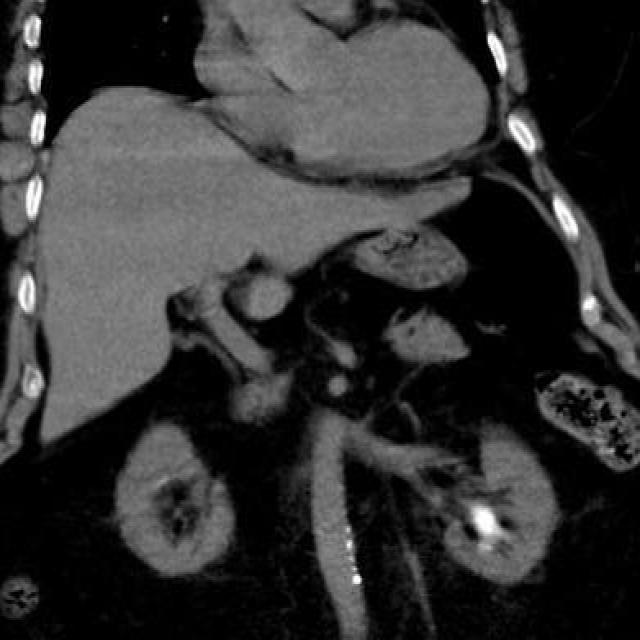Tas_Var: (473, 507, 504, 539)
